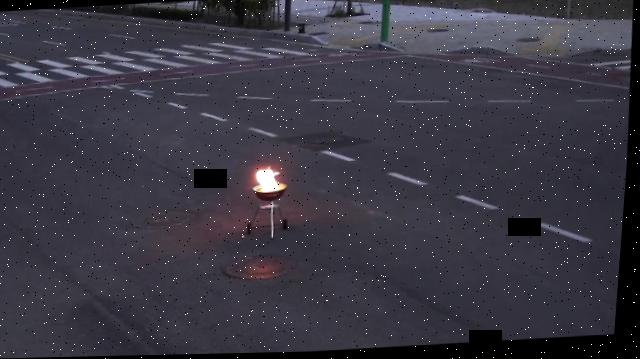fire: (258, 167, 284, 194)
